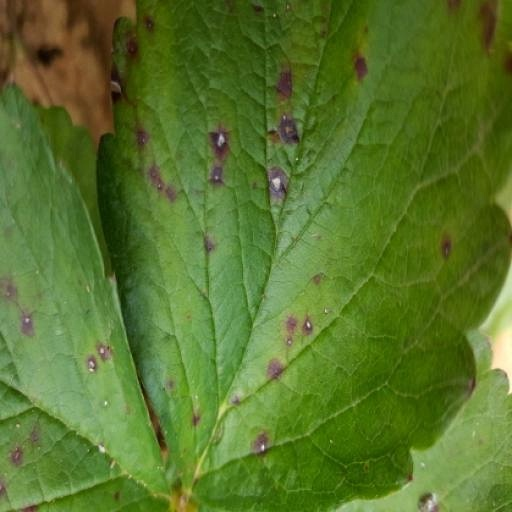Leaf Spot: (0, 0, 418, 511), (337, 0, 511, 441)
